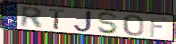F: (149, 16, 169, 38)
J: (73, 10, 94, 33)
O: (122, 14, 145, 37)
R: (20, 5, 45, 30)
S: (96, 12, 120, 35)
T: (48, 8, 67, 31)
